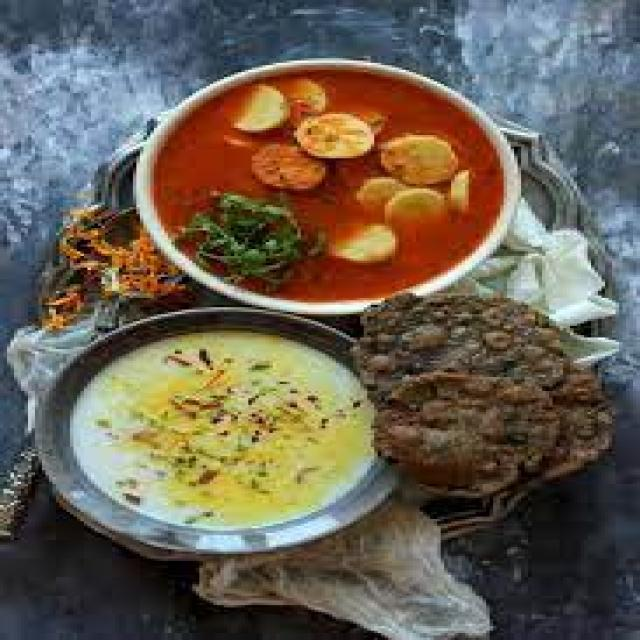dal: (69, 323, 360, 533)
rice: (357, 285, 619, 500)
roti: (192, 498, 443, 635)
